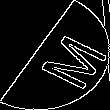M_NW: (13, 22, 97, 88)
